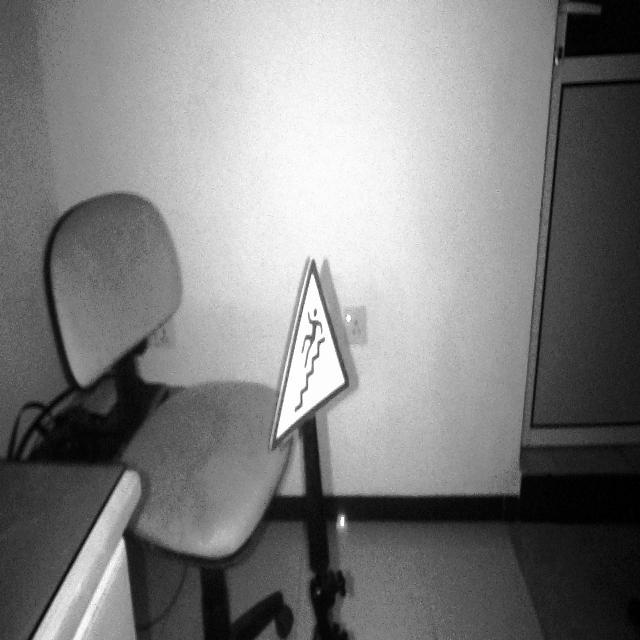Sign: (268, 256, 351, 455)
